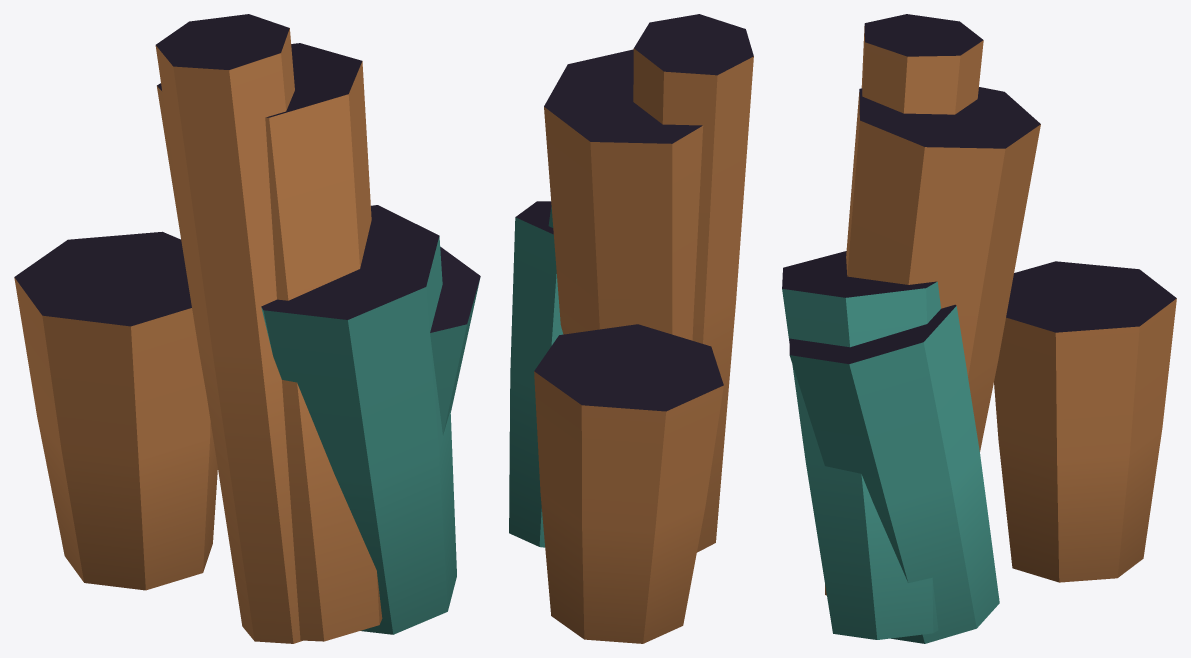
File: coral_tube.glb
The picture shows the model from 3 angles, left to right: view 1: azimuth 30°, elevation 25°; view 2: azimuth 150°, elevation 25°; view 3: azimuth 270°, elevation 25°; orthographic projection. The views are drawn at different scales.
Visible parts, largest first — view 1: coral_tube; view 2: coral_tube; view 3: coral_tube.
Part boxes in pixels (bbox=[...]): coral_tube: bbox=[14, 14, 480, 643]; coral_tube: bbox=[509, 14, 753, 643]; coral_tube: bbox=[782, 14, 1176, 643].
Bounding box in the file's own units: 0.379 × 0.6658 × 0.4427.
